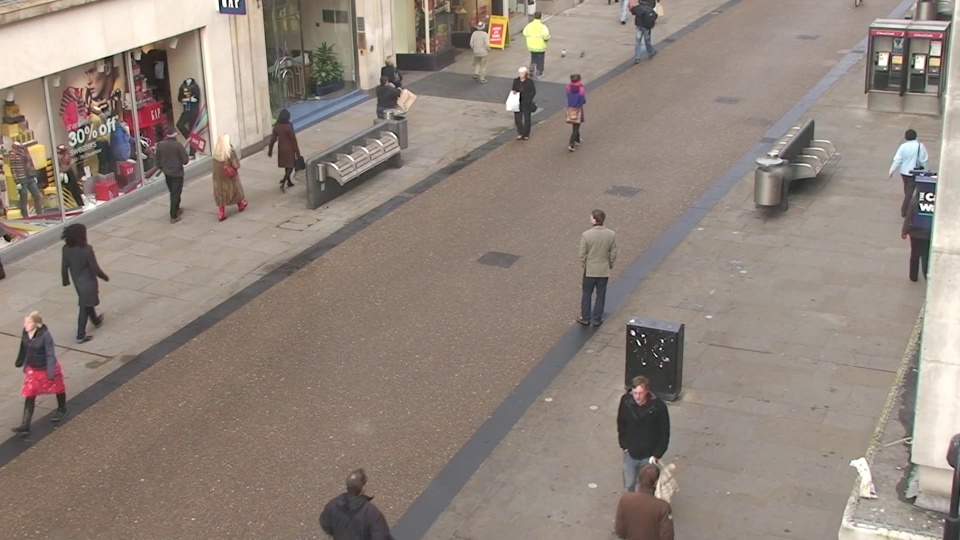pedestrian: (7, 304, 75, 448), (612, 371, 666, 532), (56, 219, 111, 340), (617, 450, 678, 540), (328, 458, 393, 540), (884, 124, 930, 226), (580, 203, 618, 323), (155, 123, 195, 218), (206, 129, 245, 226), (269, 105, 303, 197), (371, 72, 401, 154), (510, 64, 538, 145), (562, 68, 589, 150), (377, 54, 405, 132), (469, 18, 494, 87), (525, 9, 548, 75)
